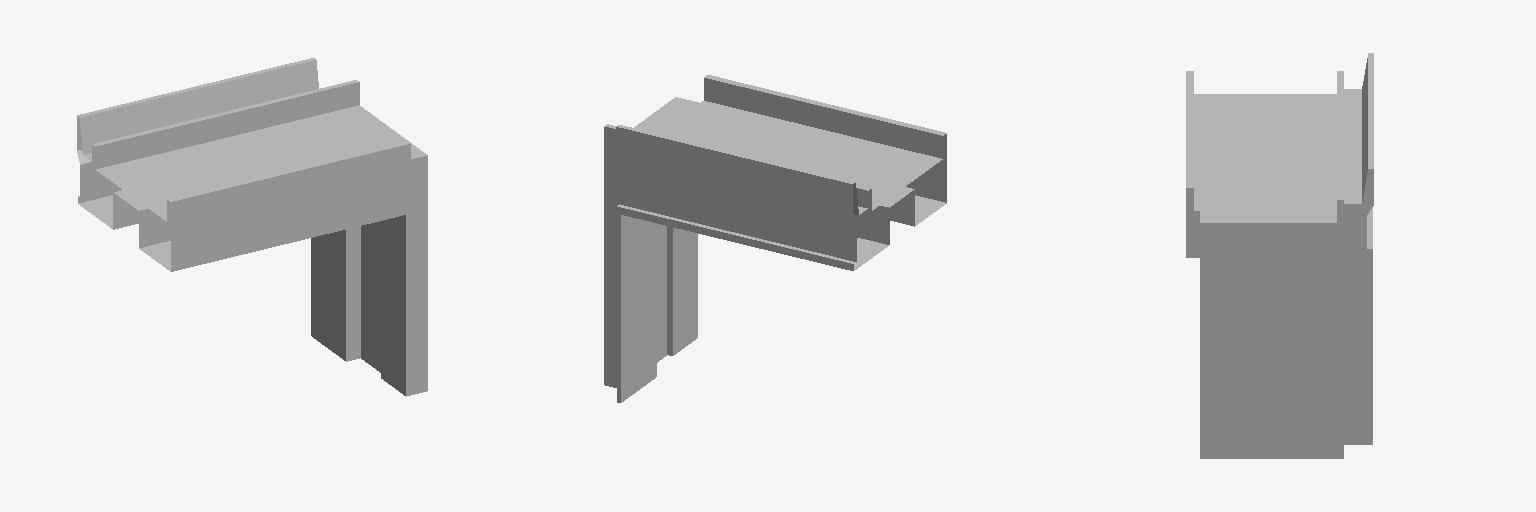
The model's file is original-12.obj.
3 renders of one model, left to right at view 1: azimuth 30°, elevation 25°; view 2: azimuth 150°, elevation 25°; view 3: azimuth 270°, elevation 25°, orthographic.
Visible parts, largest first — view 1: BF2_TR1/BF2_TR/mesh94/mesh94-geometry#mesh94-geometry; view 2: BF2_TR1/BF2_TR/mesh94/mesh94-geometry#mesh94-geometry; view 3: BF2_TR1/BF2_TR/mesh94/mesh94-geometry#mesh94-geometry.
Boxes of the visible parts, x1=… form: BF2_TR1/BF2_TR/mesh94/mesh94-geometry#mesh94-geometry: x1=77, y1=58, x2=427, y2=396; BF2_TR1/BF2_TR/mesh94/mesh94-geometry#mesh94-geometry: x1=604, y1=75, x2=946, y2=402; BF2_TR1/BF2_TR/mesh94/mesh94-geometry#mesh94-geometry: x1=1186, y1=53, x2=1373, y2=458.
Size of the model in its own units: 0.0978 by 0.0978 by 0.0605.